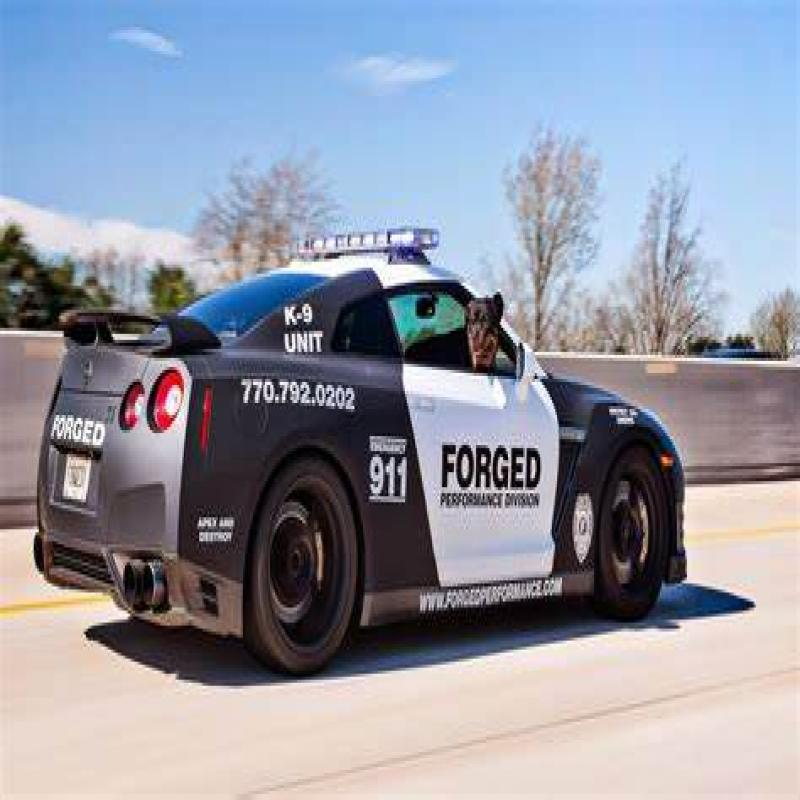AmbulanceSiren: (302, 209, 447, 259)
